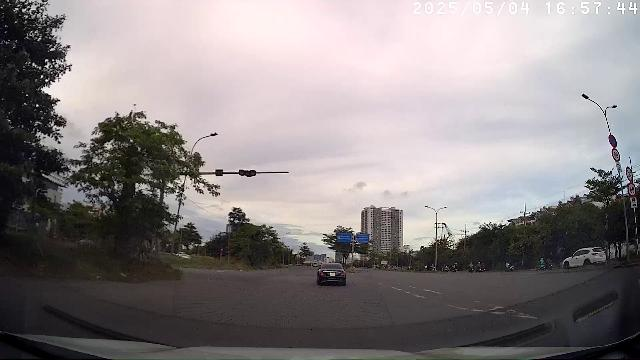127-toc-do-toi-da-60: (626, 183, 638, 197)
127-toc-do-toi-da-80: (612, 148, 620, 162)
130-cam-dung-va-do-xe: (608, 134, 618, 148)
